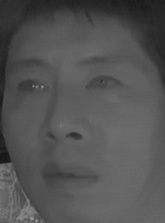eye: (82, 73, 121, 95), (14, 75, 49, 99)
mouth: (38, 159, 102, 196)
